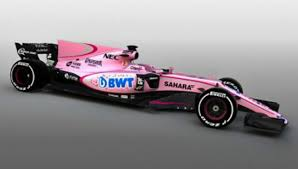FormulaOneCar: (8, 36, 289, 141)
